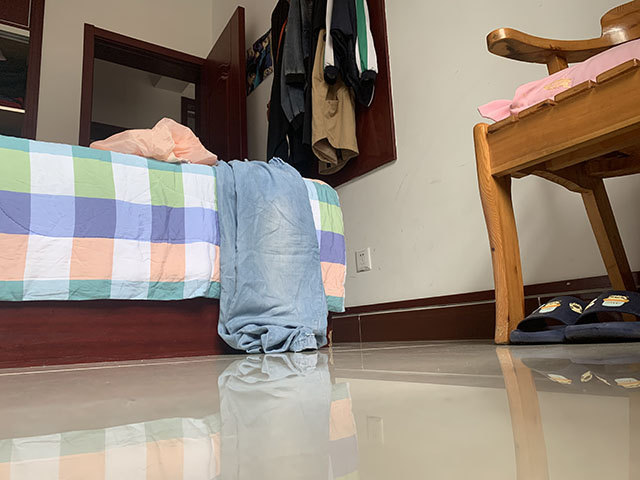bed: (1, 117, 349, 369)
slippers: (565, 295, 640, 345), (508, 295, 583, 345)
stool: (471, 1, 640, 345)
